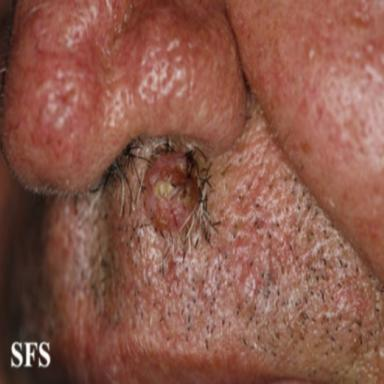basal-cell-carcinoma: (140, 148, 199, 236)
